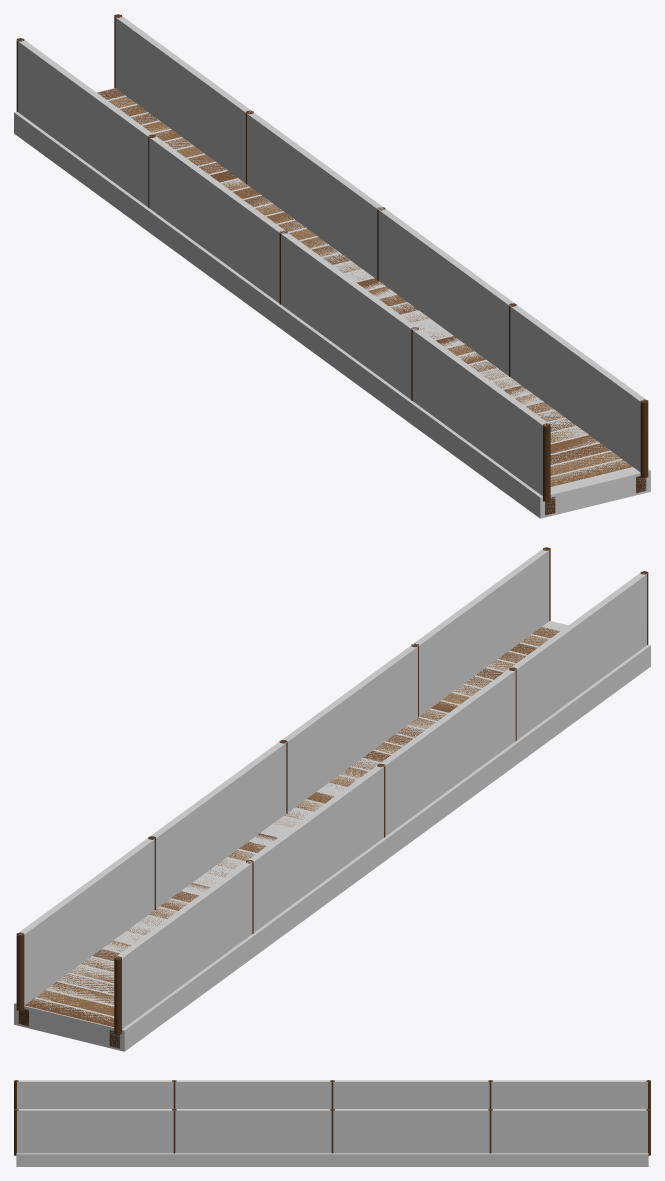
Rendered from pasarela.glb.
The picture shows the model from 3 angles, top to bottom: view 1: azimuth 30°, elevation 25°; view 2: azimuth 150°, elevation 25°; view 3: azimuth 270°, elevation 25°; orthographic projection. The views are drawn at different scales.
Visible parts, largest first — view 1: COL_1, COL_2, COL_0, pasarela_Malla; view 2: COL_1, COL_2, COL_0, pasarela_Malla; view 3: COL_2, COL_1, COL_0, pasarela_Malla.
Boxes of the visible parts, x1,y1,x2,y2 form: COL_1: [17, 40, 548, 495]; COL_2: [115, 16, 646, 472]; COL_0: [14, 88, 650, 518]; pasarela_Malla: [16, 14, 648, 515]; COL_1: [115, 573, 646, 1028]; COL_2: [18, 549, 549, 1005]; COL_0: [14, 621, 650, 1051]; pasarela_Malla: [16, 547, 648, 1048]; COL_2: [16, 1109, 647, 1153]; COL_1: [17, 1080, 647, 1108]; COL_0: [16, 1153, 648, 1166]; pasarela_Malla: [14, 1080, 650, 1155].
Size of the model in its own units: 1.7 by 1.35 by 14.1.
